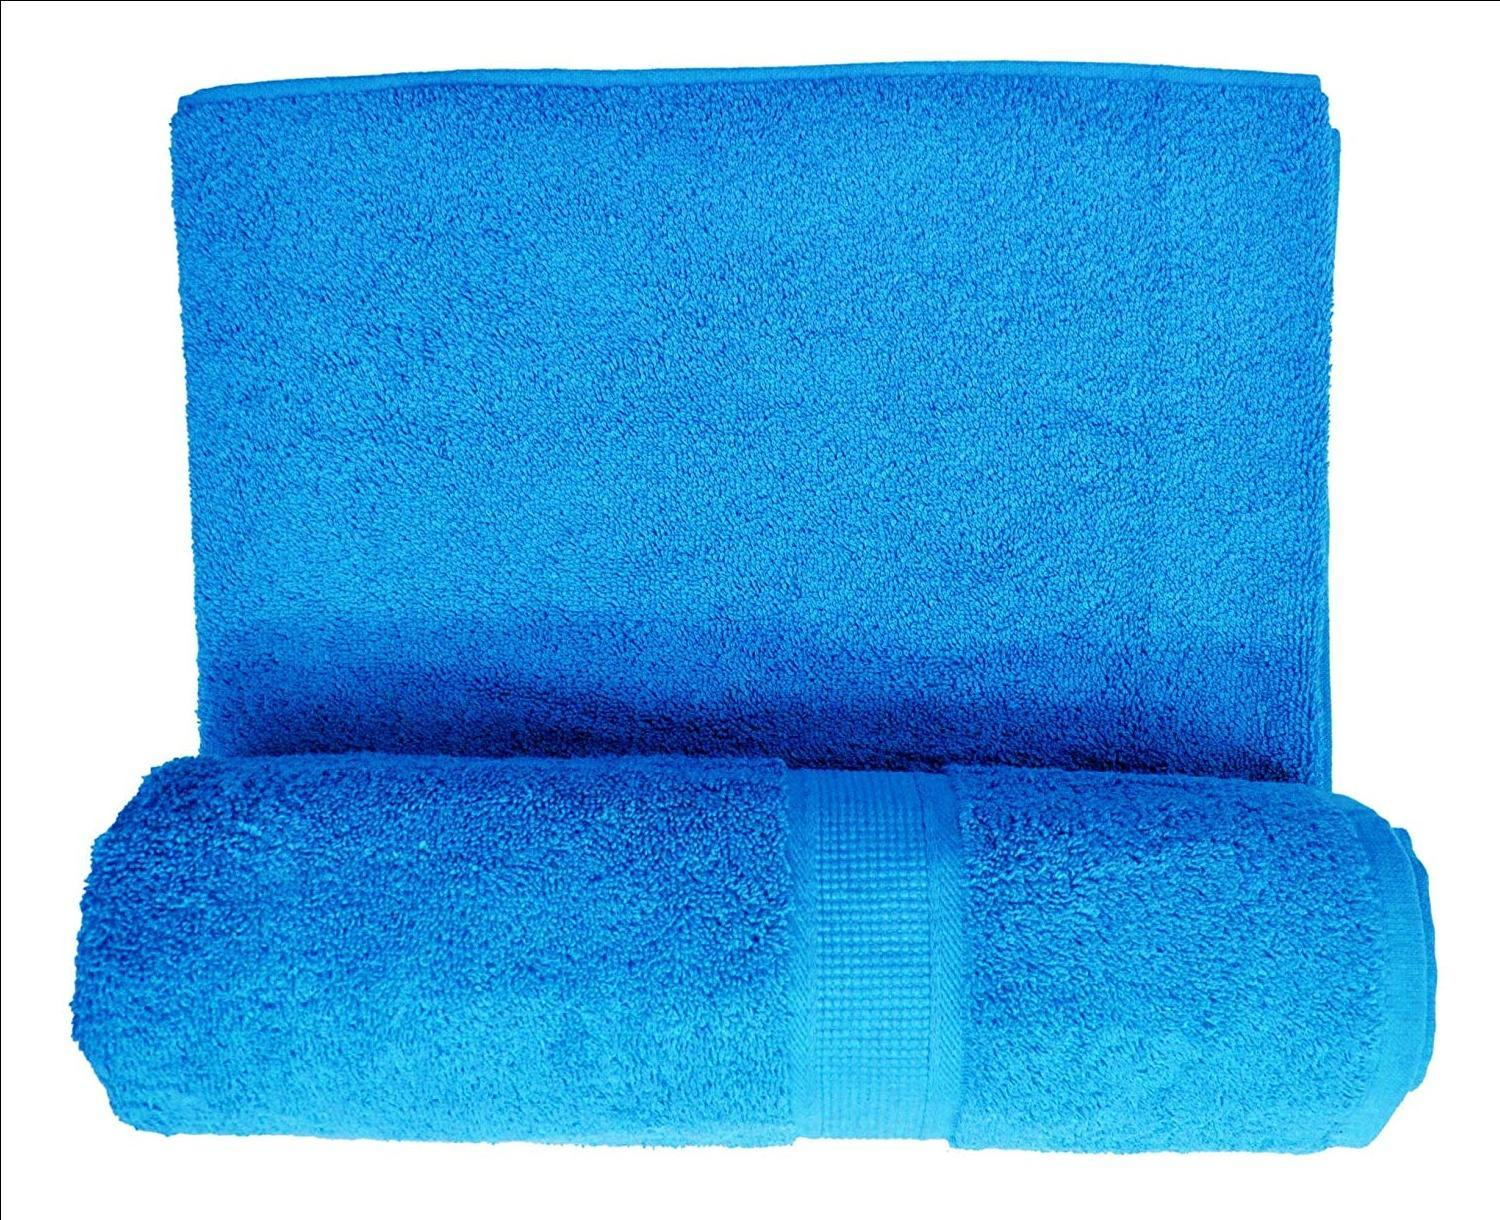towel: (90, 57, 1455, 1170)
